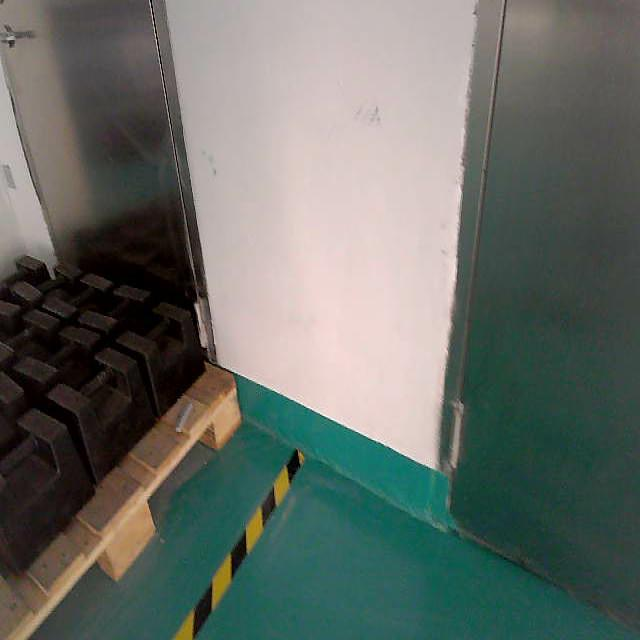euro: (0, 368, 238, 640)
